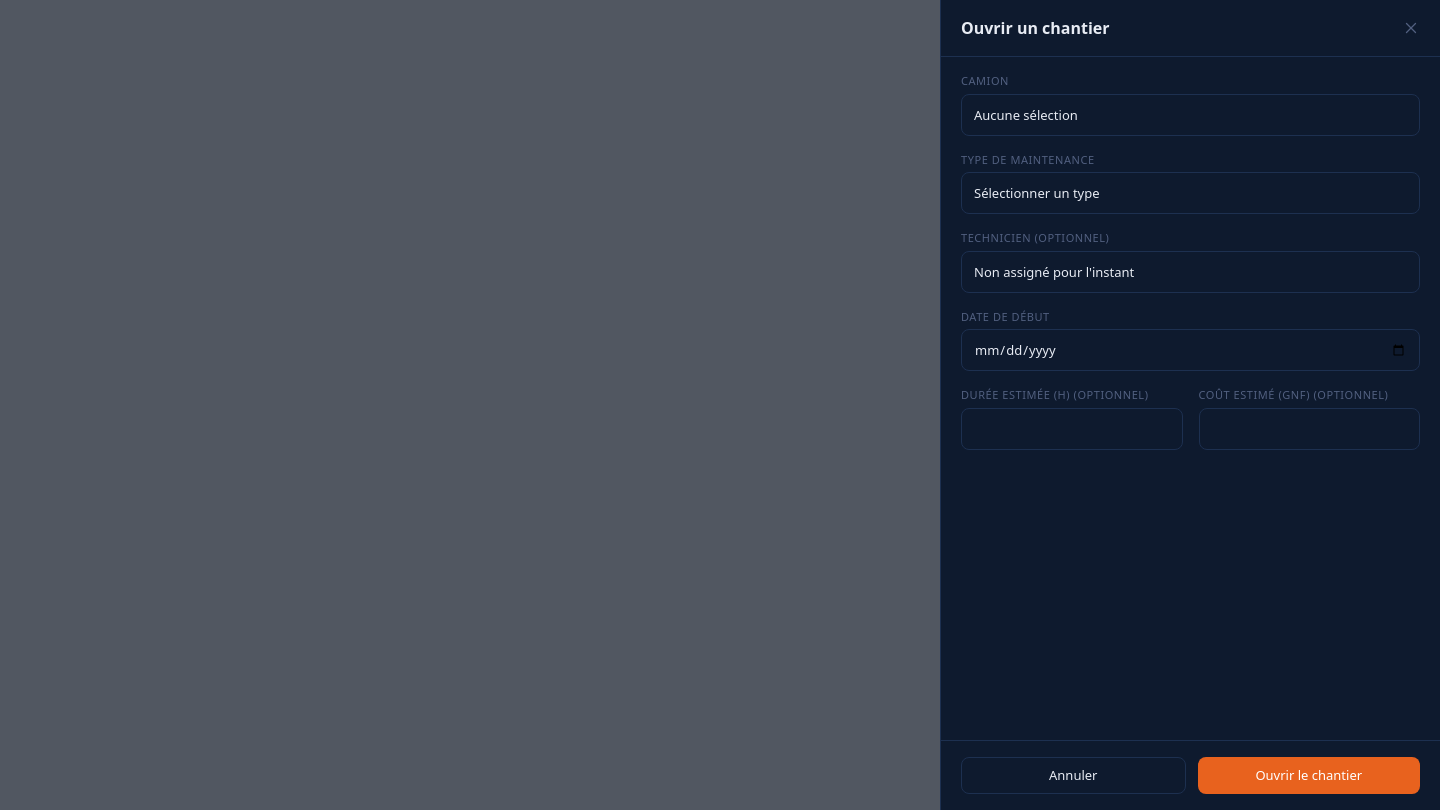
Test case: NewMaintenanceDrawer › when open › shows the fetched trucks when the camion field is focused
Focus the dropdown labelled "Camion": (1190, 114) [961, 94, 1420, 136]
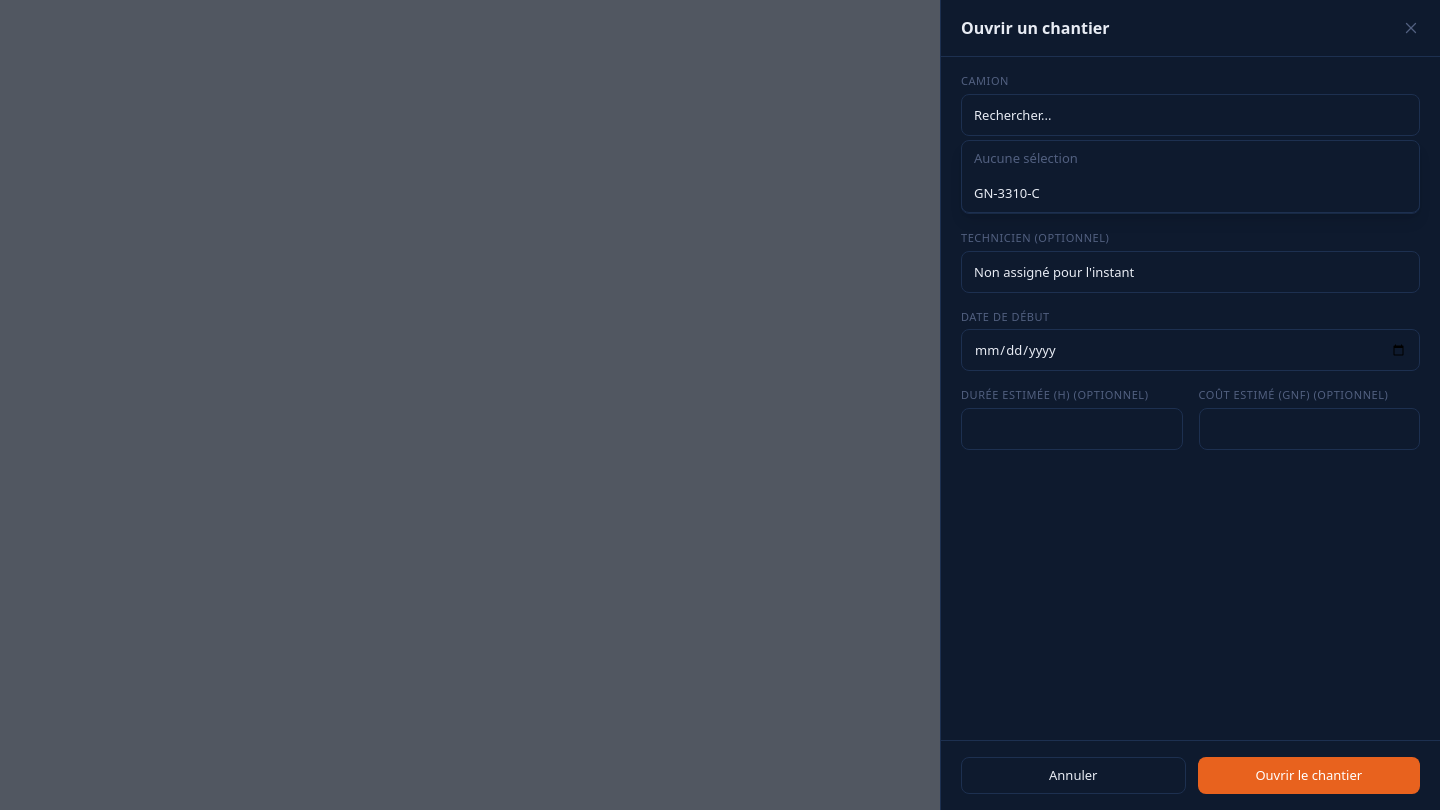
Expected: the button "GN-3310-C" is shown, [962, 176, 1419, 212]
